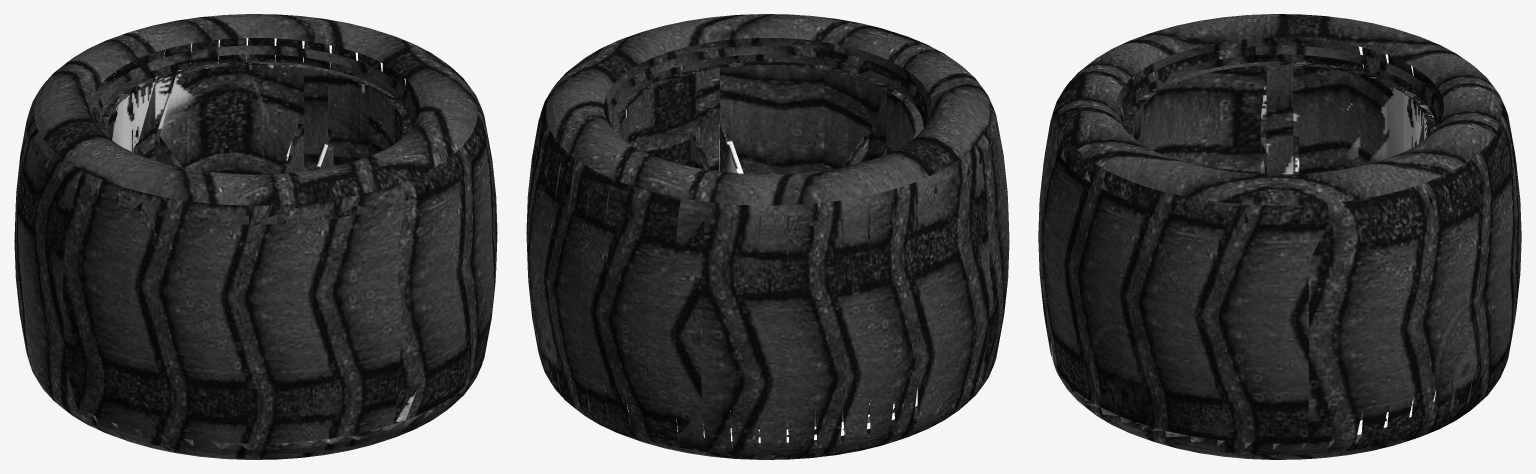
File: wheel_rm.dae
3 views of the same model, side by side, from view 1: azimuth 30°, elevation 25°; view 2: azimuth 150°, elevation 25°; view 3: azimuth 270°, elevation 25° (orthographic).
Visible parts, largest first — view 1: wheel_rm; view 2: wheel_rm; view 3: wheel_rm.
Part boxes in pixels (x1=…): wheel_rm: x1=14, y1=14, x2=497, y2=459; wheel_rm: x1=526, y1=14, x2=1009, y2=459; wheel_rm: x1=1038, y1=14, x2=1521, y2=459.
Size of the model in its own units: 0.1575 by 0.1575 by 0.0998.
1 material, 1 textured.
